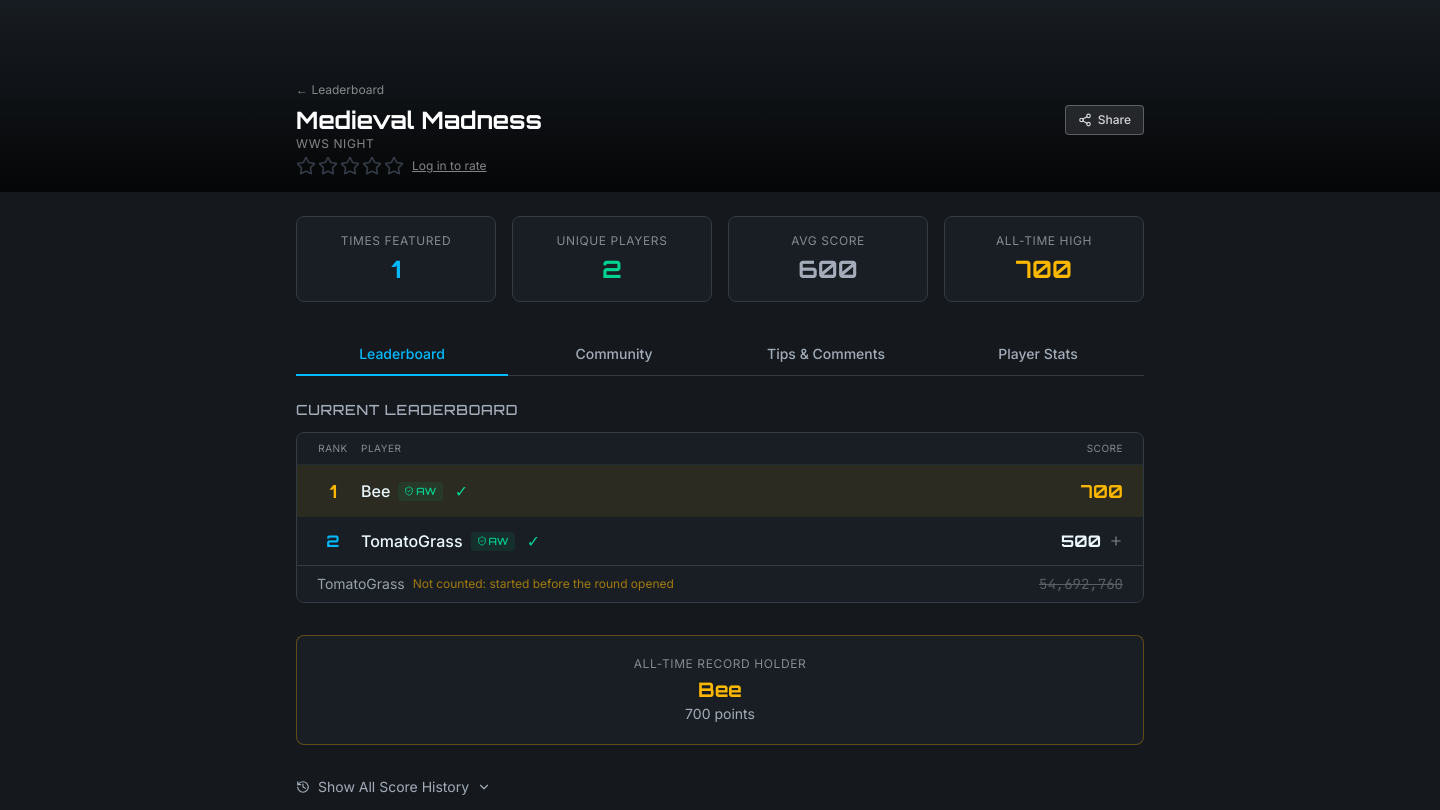
Test: GameDetail — witness verdicts on an event round › prevent: the history expand marks the flagged score from the verdict map
Expected: the element with test id "not-counted" is shown, x1=297 y1=565 x2=1143 y2=602
Note: TomatoGrass has two scores → the row expands.
Click the button "2 TomatoGrass AW ✓ 500": [493, 541] box x1=326 y1=531 x2=1123 y2=551
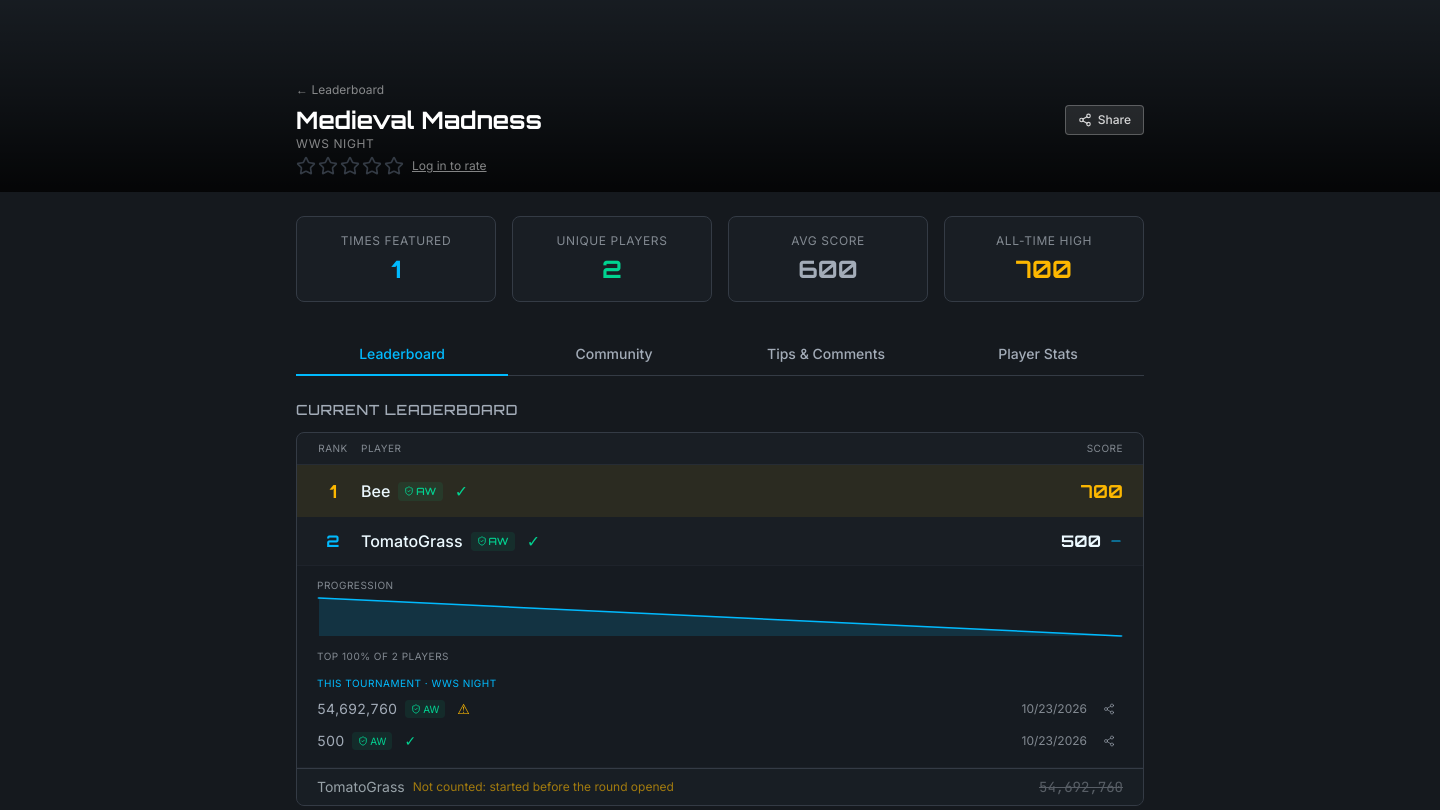
Result: the text titled "Witness: this table was launched before the round opened" is shown at x1=457 y1=699 x2=470 y2=719
